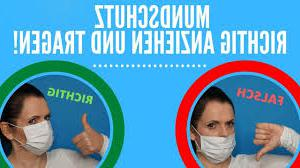mask_weared_incorrect: (198, 109, 235, 162)
with_mask: (18, 108, 55, 158)
